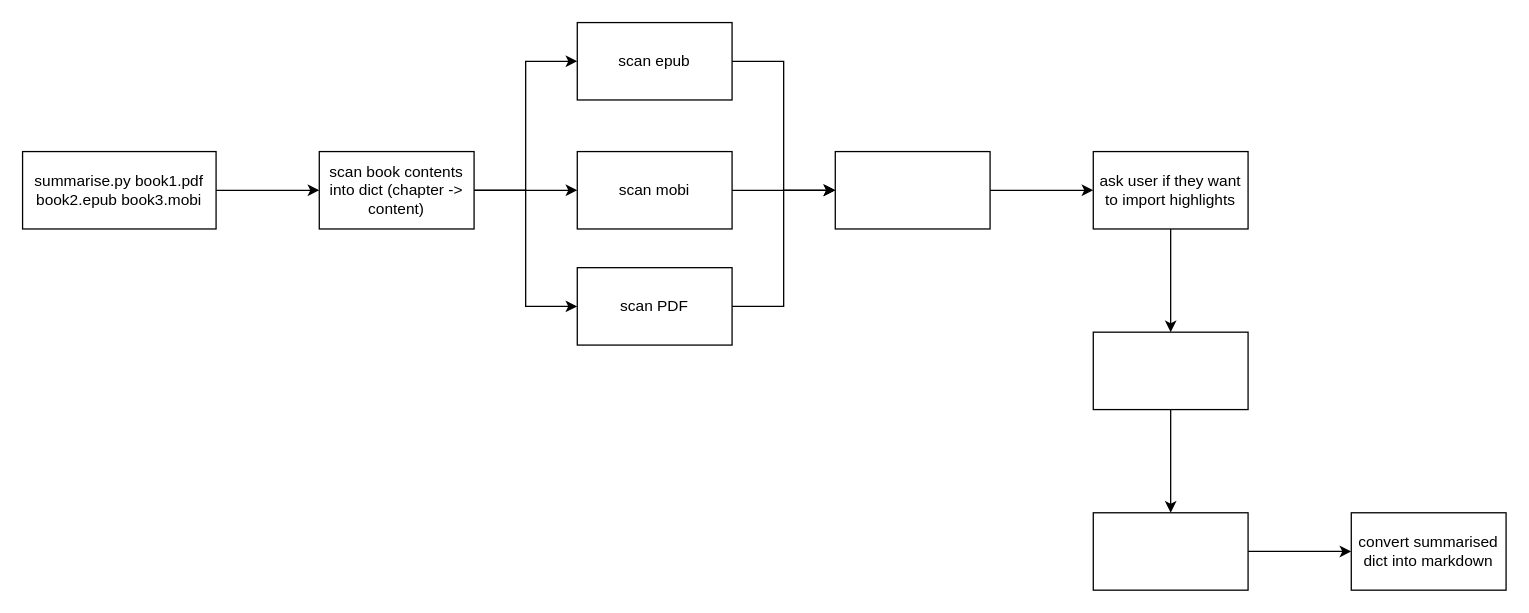
This 1529x613 diagram has some shape labels left out. The shapes that lost their labels are listed below. From the top down, each one's box as (x1, y1, x2, y2) in pixels, then its label:
(834, 150, 990, 229): check if kindle connected
(1092, 331, 1248, 410): scan kindle highlights for HLs belonging to book
(1092, 511, 1248, 590): summarise book chapters
